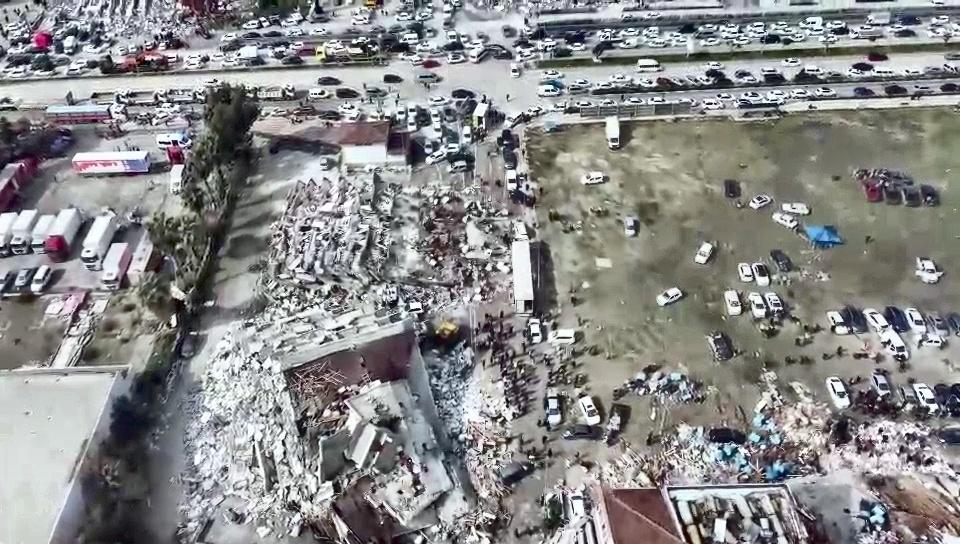kapali: (397, 317, 542, 543), (406, 166, 516, 319)
